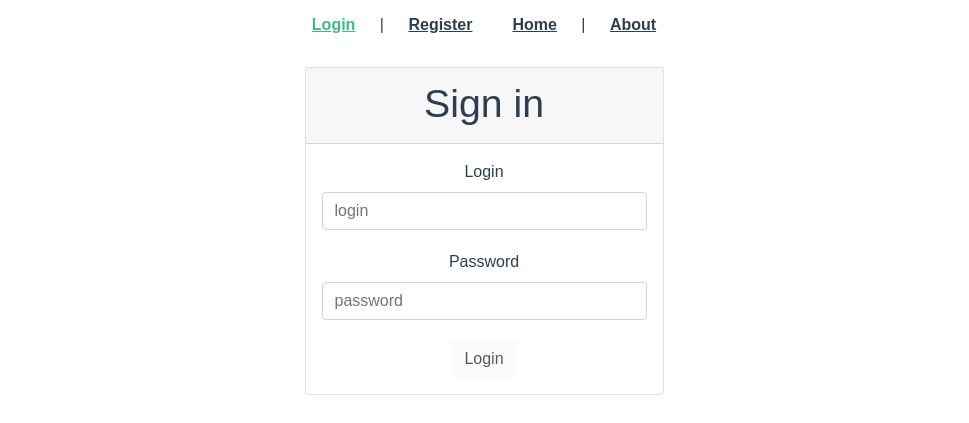
Testing CreateQuestion page › add 1 answer
This screenshot has width=969, height=423.
In the field named "login": coordinates (485, 211) [322,192,647,230], type "admin"
In the password field named "password": coordinates (485, 301) [322,282,647,320], type "admin"
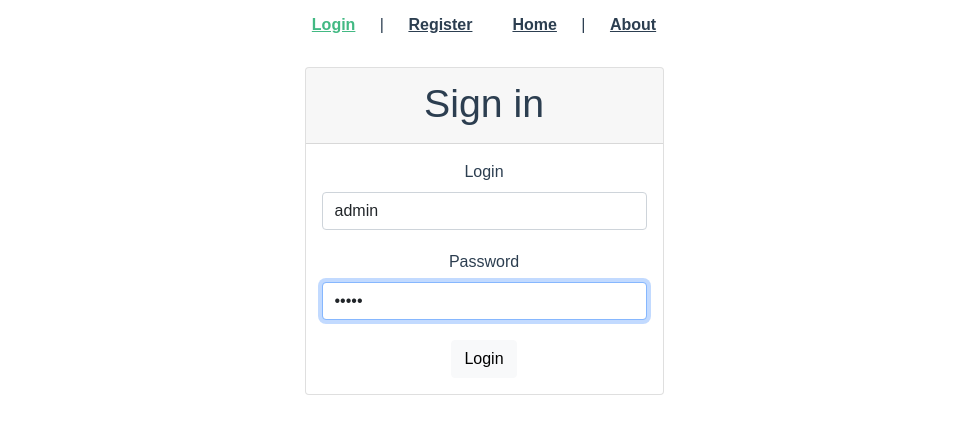
Click the button "Login": coordinates (484, 359) [451,340,516,378]
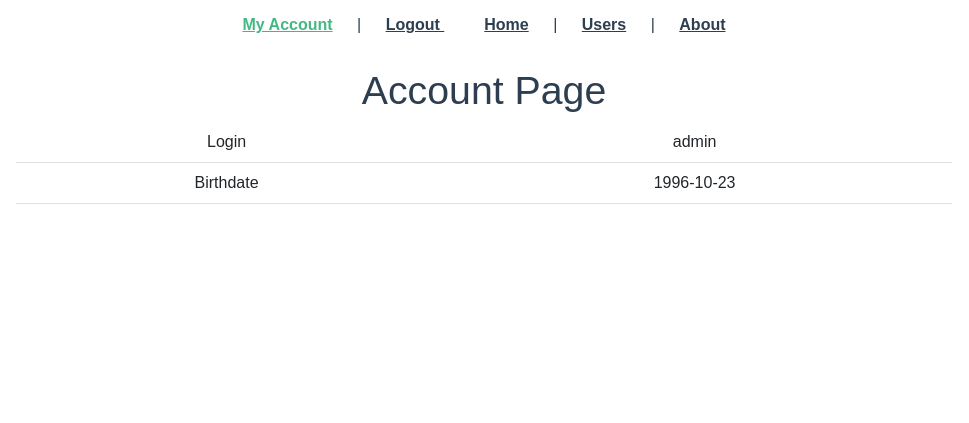
Click the link "Home": coordinates (507, 25) [484,16,529,33]
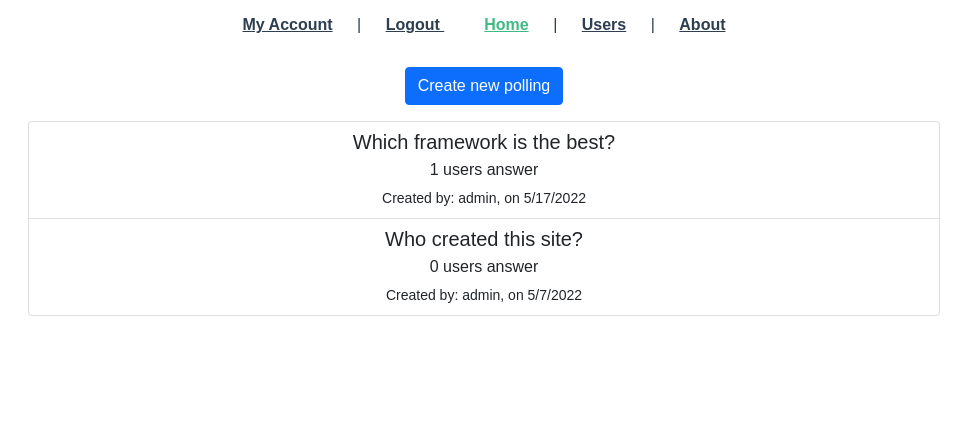
Click the link "Create new polling": coordinates (485, 86) [405,67,564,105]
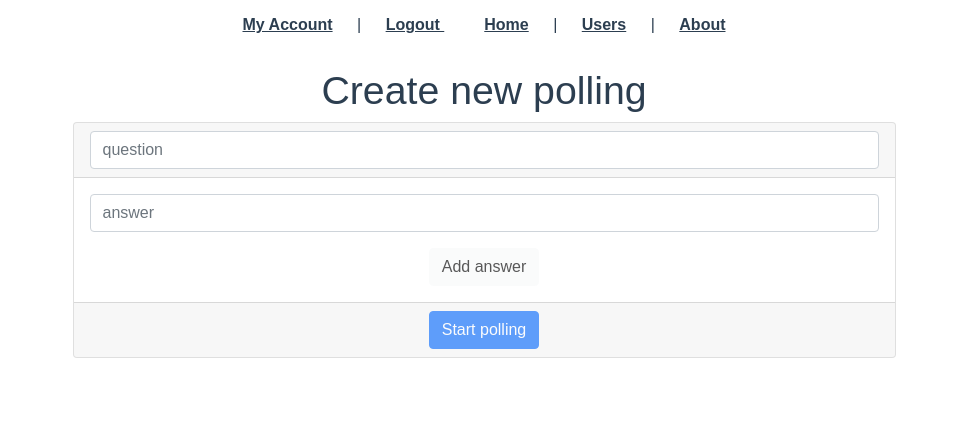
In the field named "answer-text": coordinates (485, 213) [90,194,879,232], type "Answer 1"
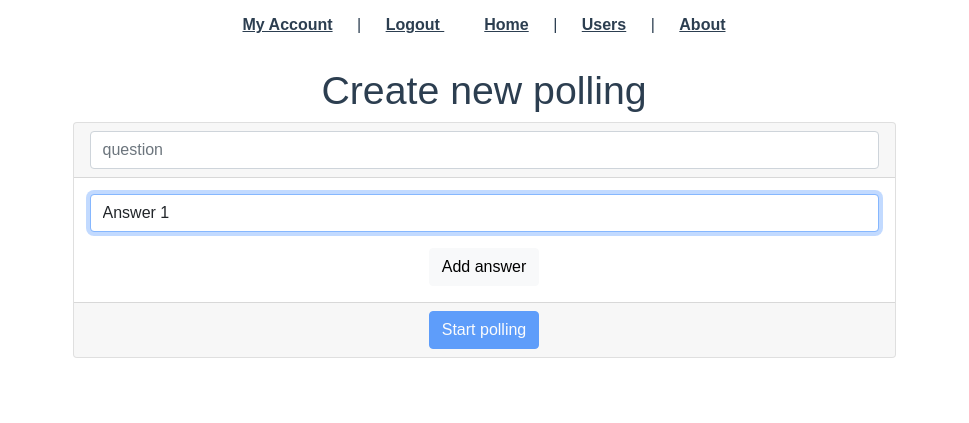
Click the button with id "addAnswer": coordinates (485, 267) [429,248,540,286]
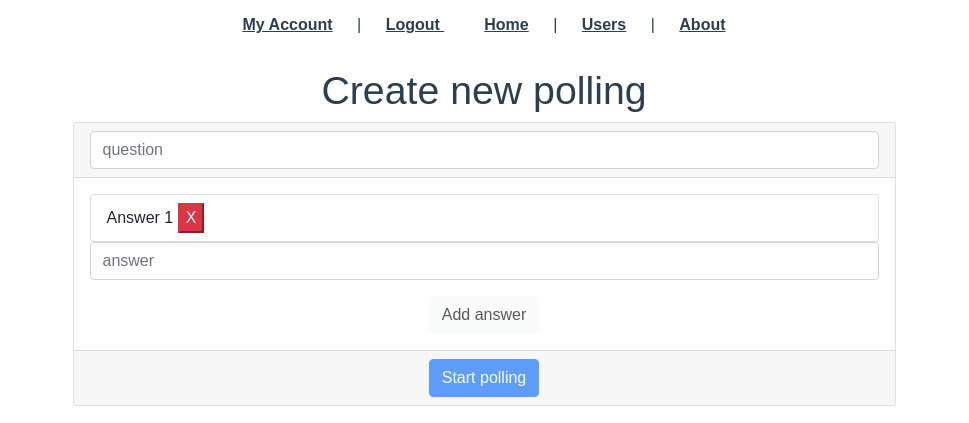
Result: the number of list items with class "list-group-item" is 1 at [90,194,879,242]
